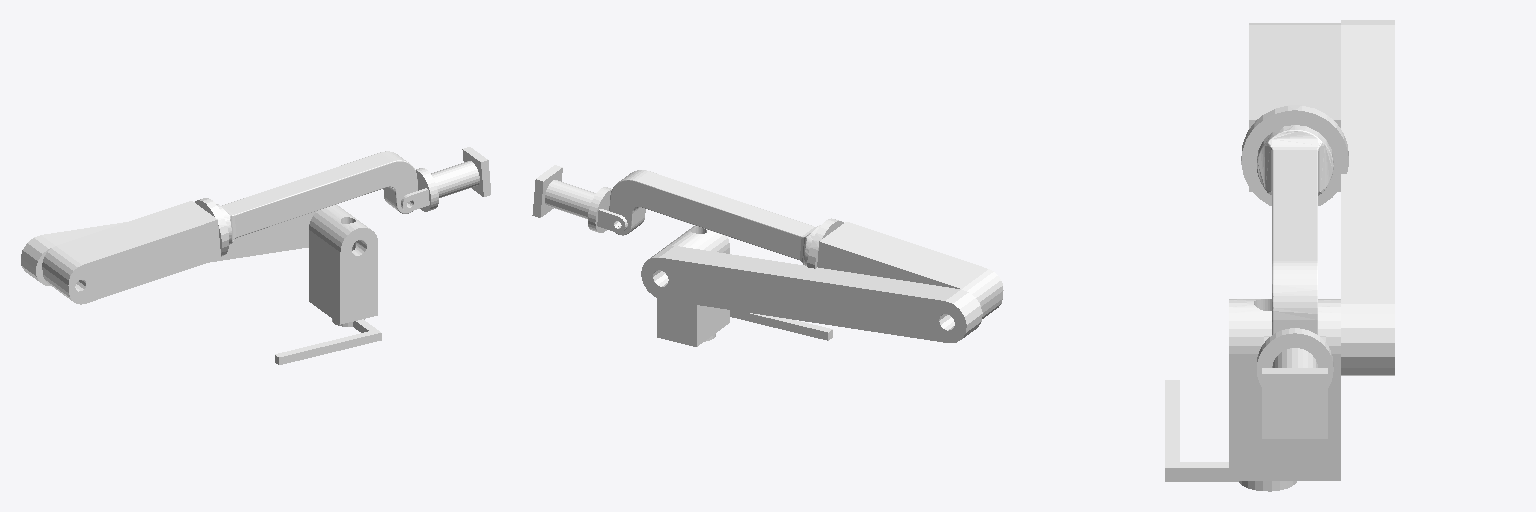
The robot description file, URDF, robot "simple_arm":
<?xml version="1.0" encoding="utf-8"?>
<!-- This URDF was automatically created by SolidWorks to URDF Exporter! Originally created by [author] ([email redacted]) 
     Commit Version: 1.6.0-4-g7f85cfe  Build Version: 1.6.7995.38578
     For more information, please see http://wiki.ros.org/sw_urdf_exporter -->
<robot
  name="simple_arm">
  <link
    name="base_link">
    <inertial>
      <origin
        xyz="-0.029123 -0.033706 0.005"
        rpy="0 0 0" />
      <mass
        value="0.029196" />
      <inertia
        ixx="2.633E-05"
        ixy="-2.4057E-05"
        ixz="1.1298E-21"
        iyy="5.0719E-05"
        iyz="9.4342E-23"
        izz="7.6562E-05" />
    </inertial>
    <visual>
      <origin
        xyz="0 0 0"
        rpy="0 0 0" />
      <geometry>
        <mesh
          filename="package://simple_arm/meshes/base_link.STL" />
      </geometry>
      <material
        name="">
        <color
          rgba="1 1 1 1" />
      </material>
    </visual>
    <collision>
      <origin
        xyz="0 0 0"
        rpy="0 0 0" />
      <geometry>
        <mesh
          filename="package://simple_arm/meshes/base_link.STL" />
      </geometry>
    </collision>
  </link>
  <link
    name="yaw_Link">
    <inertial>
      <origin
        xyz="6.261E-09 0.012156 0.053426"
        rpy="0 0 0" />
      <mass
        value="0.35416" />
      <inertia
        ixx="0.00052105"
        ixy="5.0927E-11"
        ixz="-7.5303E-12"
        iyy="0.00043693"
        iyz="4.6383E-07"
        izz="0.00024205" />
    </inertial>
    <visual>
      <origin
        xyz="0 0 0"
        rpy="0 0 0" />
      <geometry>
        <mesh
          filename="package://simple_arm/meshes/yaw_Link.STL" />
      </geometry>
      <material
        name="">
        <color
          rgba="1 1 1 1" />
      </material>
    </visual>
    <collision>
      <origin
        xyz="0 0 0"
        rpy="0 0 0" />
      <geometry>
        <mesh
          filename="package://simple_arm/meshes/yaw_Link.STL" />
      </geometry>
    </collision>
  </link>
  <joint
    name="yaw_link"
    type="revolute">
    <origin
      xyz="0 0 0.01"
      rpy="0 0 0" />
    <parent
      link="base_link" />
    <child
      link="yaw_Link" />
    <axis
      xyz="0 0 1" />
    <limit
      lower="-1.57"
      upper="1.57"
      effort="0"
      velocity="0" />
  </joint>
  <link
    name="P1_Link">
    <inertial>
      <origin
        xyz="0.18397 0 0.056283"
        rpy="0 0 0" />
      <mass
        value="0.68023" />
      <inertia
        ixx="0.00023225"
        ixy="6.1316E-19"
        ixz="0.00042211"
        iyy="0.0087926"
        iyz="-3.659E-20"
        izz="0.0088447" />
    </inertial>
    <visual>
      <origin
        xyz="0 0 0"
        rpy="0 0 0" />
      <geometry>
        <mesh
          filename="package://simple_arm/meshes/P1_Link.STL" />
      </geometry>
      <material
        name="">
        <color
          rgba="1 1 1 1" />
      </material>
    </visual>
    <collision>
      <origin
        xyz="0 0 0"
        rpy="0 0 0" />
      <geometry>
        <mesh
          filename="package://simple_arm/meshes/P1_Link.STL" />
      </geometry>
    </collision>
  </link>
  <joint
    name="p1_link"
    type="revolute">
    <origin
      xyz="0 0 0.091"
      rpy="1.5751 -0.087162 3.0926" />
    <parent
      link="yaw_Link" />
    <child
      link="P1_Link" />
    <axis
      xyz="0.048837 0 0.99881" />
    <limit
      lower="0"
      upper="2"
      effort="0"
      velocity="0" />
  </joint>
  <link
    name="P2_Link">
    <inertial>
      <origin
        xyz="0.093579 0 6.9389E-18"
        rpy="0 0 0" />
      <mass
        value="0.61758" />
      <inertia
        ixx="0.00031766"
        ixy="8.8091E-20"
        ixz="-7.147E-20"
        iyy="0.0023843"
        iyz="-1.4344E-20"
        izz="0.002331" />
    </inertial>
    <visual>
      <origin
        xyz="0 0 0"
        rpy="0 0 0" />
      <geometry>
        <mesh
          filename="package://simple_arm/meshes/P2_Link.STL" />
      </geometry>
      <material
        name="">
        <color
          rgba="1 1 1 1" />
      </material>
    </visual>
    <collision>
      <origin
        xyz="0 0 0"
        rpy="0 0 0" />
      <geometry>
        <mesh
          filename="package://simple_arm/meshes/P2_Link.STL" />
      </geometry>
    </collision>
  </link>
  <joint
    name="p2_link"
    type="revolute">
    <origin
      xyz="0.36243 0 0"
      rpy="0.0084903 -0.048113 2.9669" />
    <parent
      link="P1_Link" />
    <child
      link="P2_Link" />
    <axis
      xyz="0 0 1" />
    <limit
      lower="-2"
      upper="0"
      effort="0"
      velocity="0" />
  </joint>
  <link
    name="Roll_Link">
    <inertial>
      <origin
        xyz="-0.0042914 1.4286E-05 0.13539"
        rpy="0 0 0" />
      <mass
        value="0.27489" />
      <inertia
        ixx="0.0018909"
        ixy="1.3975E-07"
        ixz="0.0001294"
        iyy="0.0019259"
        iyz="-4.3042E-07"
        izz="8.0038E-05" />
    </inertial>
    <visual>
      <origin
        xyz="0 0 0"
        rpy="0 0 0" />
      <geometry>
        <mesh
          filename="package://simple_arm/meshes/Roll_Link.STL" />
      </geometry>
      <material
        name="">
        <color
          rgba="1 1 1 1" />
      </material>
    </visual>
    <collision>
      <origin
        xyz="0 0 0"
        rpy="0 0 0" />
      <geometry>
        <mesh
          filename="package://simple_arm/meshes/Roll_Link.STL" />
      </geometry>
    </collision>
  </link>
  <joint
    name="roll_link"
    type="revolute">
    <origin
      xyz="0.194 0 0"
      rpy="-1.5708 0 -1.5708" />
    <parent
      link="P2_Link" />
    <child
      link="Roll_Link" />
    <axis
      xyz="0 0 1" />
    <limit
      lower="-1.57"
      upper="1.57"
      effort="0"
      velocity="0" />
  </joint>
  <link
    name="Minip_Link">
    <inertial>
      <origin
        xyz="0.025369 2.7756E-17 -6.9389E-18"
        rpy="0 0 0" />
      <mass
        value="0.02542" />
      <inertia
        ixx="8.1208E-06"
        ixy="8.9997E-22"
        ixz="-2.9573E-21"
        iyy="7.4031E-06"
        iyz="-4.8817E-23"
        izz="5.8203E-06" />
    </inertial>
    <visual>
      <origin
        xyz="0 0 0"
        rpy="0 0 0" />
      <geometry>
        <mesh
          filename="package://simple_arm/meshes/Minip_Link.STL" />
      </geometry>
      <material
        name="">
        <color
          rgba="1 1 1 1" />
      </material>
    </visual>
    <collision>
      <origin
        xyz="0 0 0"
        rpy="0 0 0" />
      <geometry>
        <mesh
          filename="package://simple_arm/meshes/Minip_Link.STL" />
      </geometry>
    </collision>
  </link>
  <joint
    name="minip_link"
    type="revolute">
    <origin
      xyz="-0.042 0 0.245"
      rpy="1.5708 -1.5708 0" />
    <parent
      link="Roll_Link" />
    <child
      link="Minip_Link" />
    <axis
      xyz="0 0 -1" />
    <limit
      lower="-2"
      upper="0"
      effort="0"
      velocity="0" />
  </joint>
  <link
    name="Minir_Link">
    <inertial>
      <origin
        xyz="-1.3878E-17 1.3878E-17 0.040916"
        rpy="0 0 0" />
      <mass
        value="0.061635" />
      <inertia
        ixx="3.436E-05"
        ixy="2.978E-22"
        ixz="-4.2881E-21"
        iyy="3.4758E-05"
        iyz="-2.1346E-21"
        izz="1.0943E-05" />
    </inertial>
    <visual>
      <origin
        xyz="0 0 0"
        rpy="0 0 0" />
      <geometry>
        <mesh
          filename="package://simple_arm/meshes/Minir_Link.STL" />
      </geometry>
      <material
        name="">
        <color
          rgba="1 1 1 1" />
      </material>
    </visual>
    <collision>
      <origin
        xyz="0 0 0"
        rpy="0 0 0" />
      <geometry>
        <mesh
          filename="package://simple_arm/meshes/Minir_Link.STL" />
      </geometry>
    </collision>
  </link>
  <joint
    name="minir_link"
    type="revolute">
    <origin
      xyz="0.035 0 0"
      rpy="1.5708 0 1.5708" />
    <parent
      link="Minip_Link" />
    <child
      link="Minir_Link" />
    <axis
      xyz="0 0 -1" />
    <limit
      lower="0"
      upper="6.28"
      effort="0"
      velocity="0" />
  </joint>
</robot>

--- Render facts (derived) ---
3 views of the same robot in one strip: view 1: azimuth 30°, elevation 25°; view 2: azimuth 150°, elevation 25°; view 3: azimuth 270°, elevation 25° (orthographic).
Model simple_arm with 7 links and 6 joints (6 revolute), rooted at base_link, posed all joints at 0.
Visible links, largest first — view 1: P2_Link, Roll_Link, yaw_Link, P1_Link, Minir_Link, base_link, Minip_Link; view 2: P1_Link, Roll_Link, P2_Link, yaw_Link, Minir_Link, base_link, Minip_Link; view 3: P1_Link, P2_Link, yaw_Link, Roll_Link, Minir_Link, base_link, Minip_Link.
Link boxes in pixels (x1,y1,x2,y2): P2_Link: (42,198,228,304); Roll_Link: (216,151,417,244); yaw_Link: (309,205,377,324); P1_Link: (21,204,337,285); Minir_Link: (431,147,490,197); base_link: (275,319,381,364); Minip_Link: (401,168,438,211); P1_Link: (641,246,982,342); Roll_Link: (609,170,820,265); P2_Link: (807,218,1003,318); yaw_Link: (657,226,729,346); Minir_Link: (532,165,595,218); base_link: (705,310,832,341); Minip_Link: (588,187,627,232); P1_Link: (1341,20,1394,375); P2_Link: (1241,23,1348,205); yaw_Link: (1229,299,1340,480); Roll_Link: (1257,125,1333,334); Minir_Link: (1262,348,1327,438); base_link: (1165,380,1296,491); Minip_Link: (1257,328,1333,387).
Bounding box of the posed robot: 0.5725 × 0.1497 × 0.1845 m (x, y, z).
7 mesh visuals loaded from 7 distinct referenced files (7 binary STL).